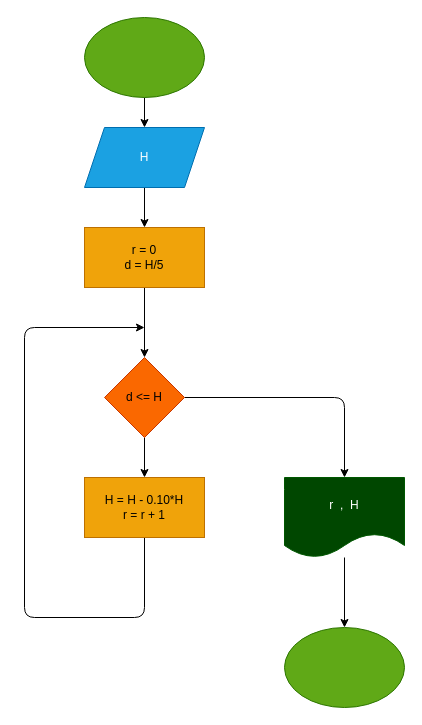
The diagram is 422 pixels wide and 725 high, and some of its shapes have lost their labels. The box of each missing label's shape, as (x1, y1, x2, y2) in pixels:
FIN: (284, 626, 404, 708)
INICIO: (84, 16, 204, 98)
